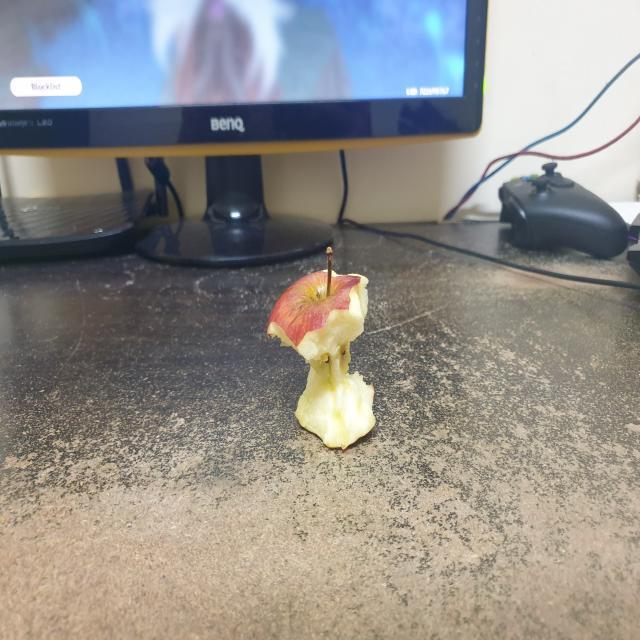apple: (260, 236, 390, 458)
